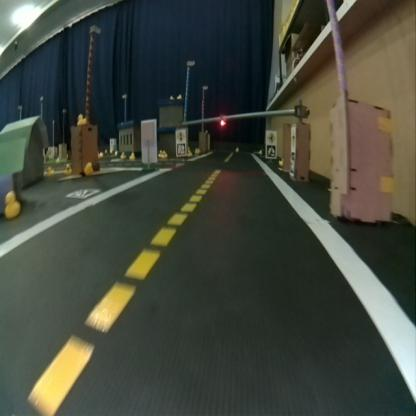Duckie: (5, 192, 20, 217), (76, 113, 86, 125), (84, 161, 92, 174), (46, 166, 53, 174), (65, 164, 71, 172), (234, 146, 240, 154), (129, 152, 135, 160), (119, 152, 125, 158), (161, 149, 164, 157), (258, 151, 264, 155), (196, 147, 199, 154)
Intersection sign: (266, 131, 275, 143)
QR code: (265, 144, 276, 157), (175, 142, 186, 155), (289, 152, 294, 176)
Signal sign: (174, 128, 184, 140)
Traffic light: (219, 118, 225, 125)
